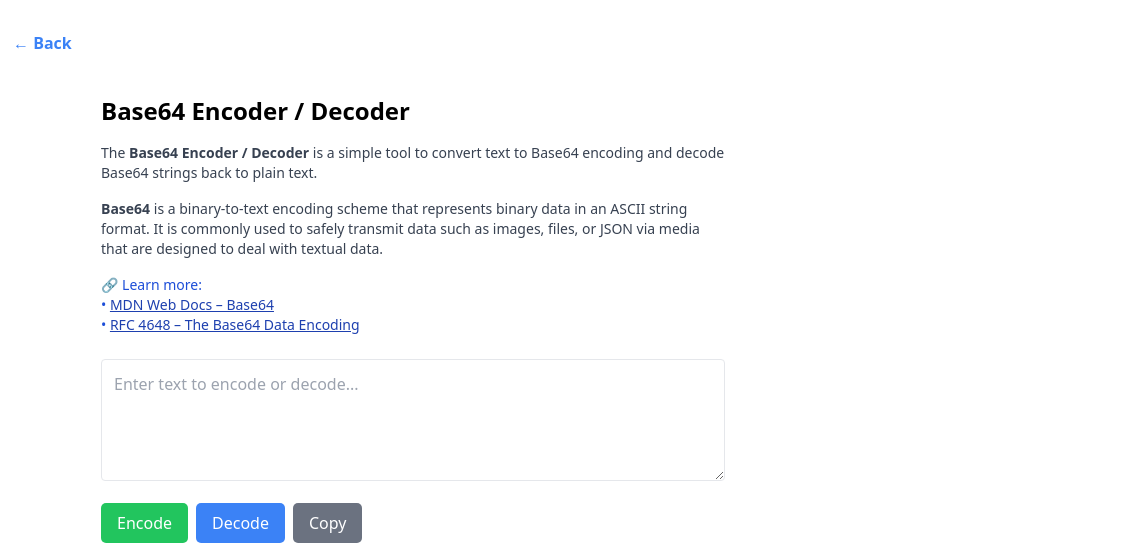
it: Base64Encoder › shows warning if copy is clicked with no output
Click the button with class "btn-gray" at (328, 523), box [293, 503, 362, 543]
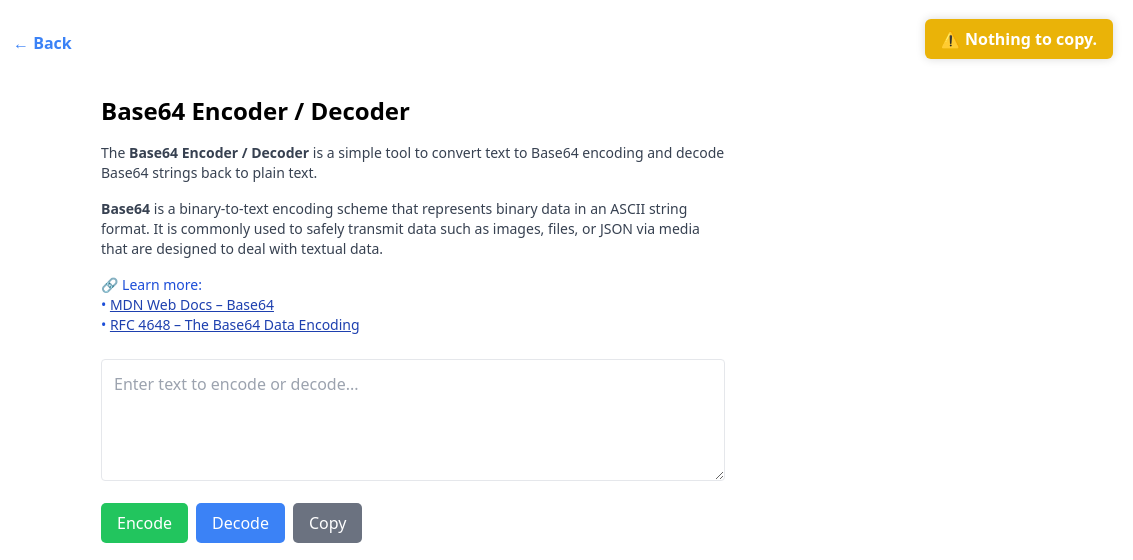
Now the text "Nothing to copy." is shown, box [941, 28, 1097, 50]
